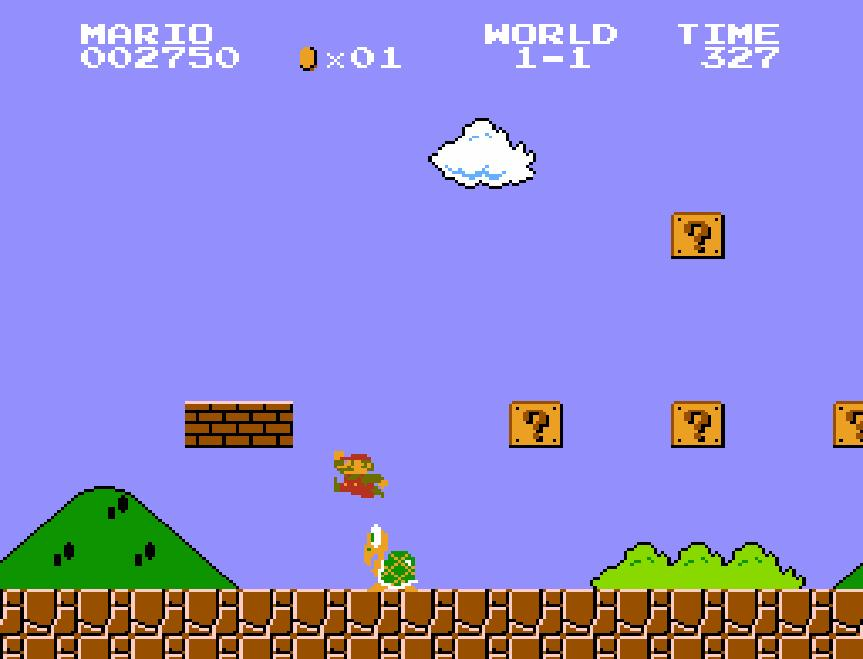little_mario: (332, 450, 390, 499)
